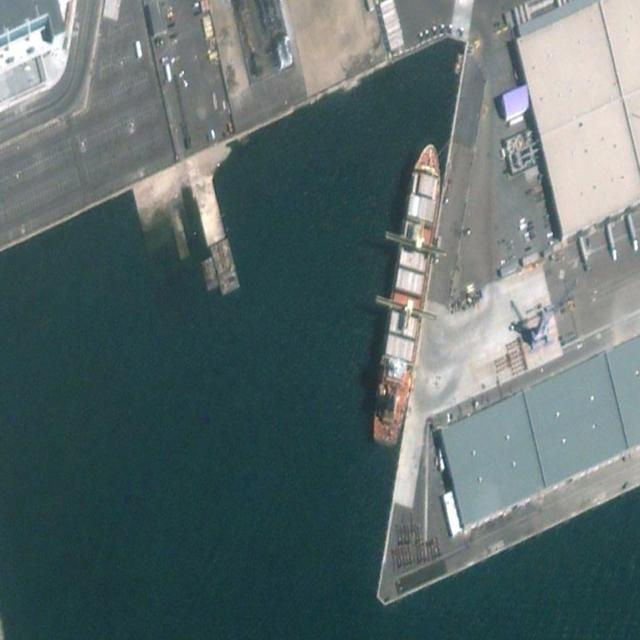Cargo: (367, 138, 447, 448)
